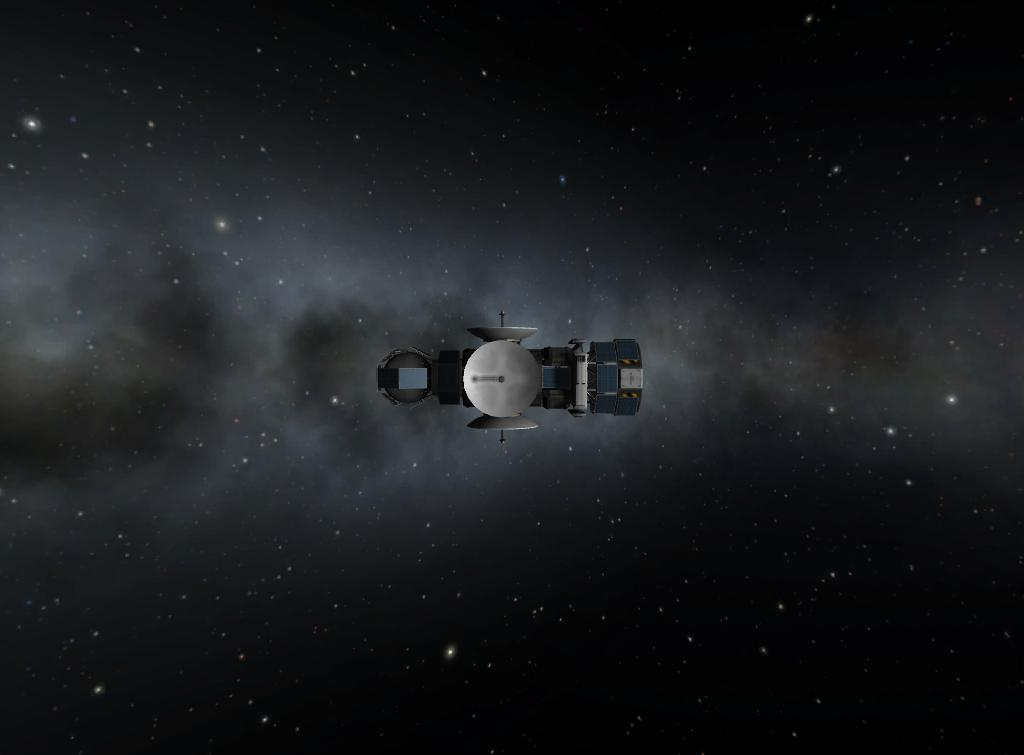antenna: (462, 339, 543, 419), (464, 308, 541, 342), (465, 414, 541, 447)
body: (375, 346, 591, 413)
solar: (592, 339, 617, 415), (396, 366, 430, 390), (436, 362, 460, 394), (542, 366, 574, 390), (615, 337, 641, 362), (615, 396, 641, 419)
